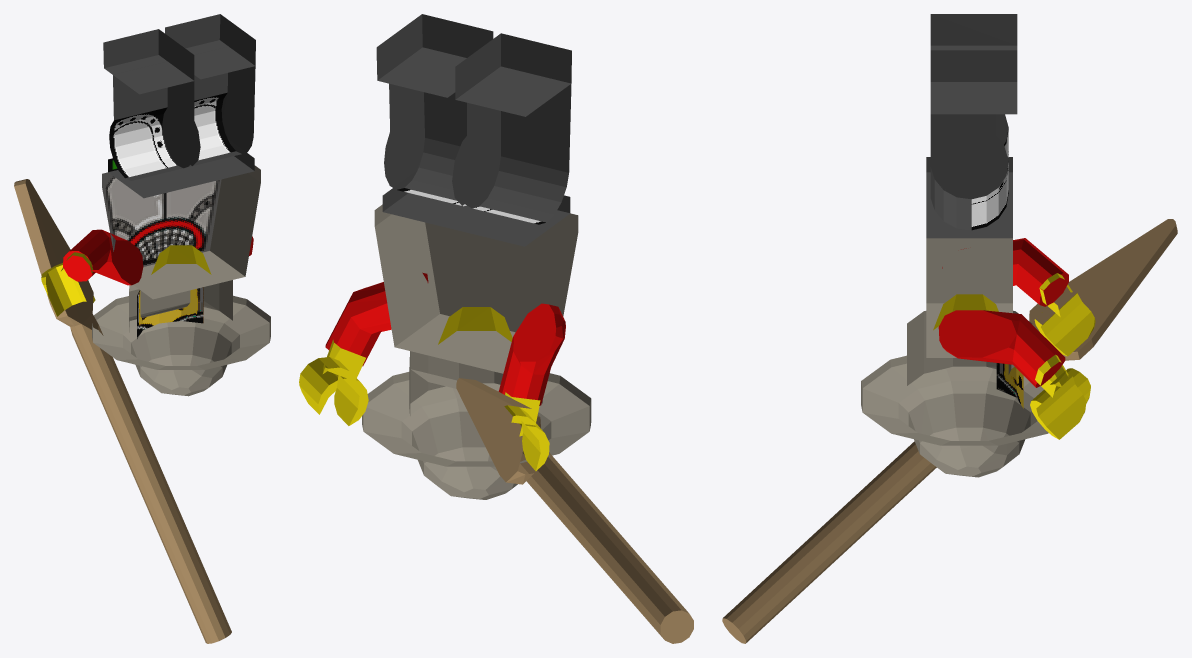
The model's file is minifigrichardstrong02.glb.
3 views of the same model, side by side, from view 1: azimuth 30°, elevation 25°; view 2: azimuth 150°, elevation 25°; view 3: azimuth 270°, elevation 25° (orthographic). The views are drawn at different scales.
Parts seen in each view (by area): view 1: 025_shape12, 032_shape16, 022_shape10, 019_shape8, 015_shape5, 021_shape9, 017_shape7, 028_shape14, 012_shape3, 034_shape18; view 2: 022_shape10, 025_shape12, 032_shape16, 019_shape8, 015_shape5, 021_shape9, 017_shape7, 012_shape3, 028_shape14, 040_shape18, 037_shape20, 034_shape18; view 3: 025_shape12, 032_shape16, 015_shape5, 022_shape10, 017_shape7, 037_shape20, 021_shape9, 040_shape18, 034_shape18, 028_shape14, 012_shape3.
Part boxes in pixels (bbox=[...]): 025_shape12: bbox=[92, 245, 270, 396]; 032_shape16: bbox=[14, 179, 231, 643]; 022_shape10: bbox=[102, 165, 260, 299]; 019_shape8: bbox=[109, 75, 194, 180]; 015_shape5: bbox=[189, 66, 255, 166]; 021_shape9: bbox=[103, 29, 194, 94]; 017_shape7: bbox=[165, 14, 255, 79]; 028_shape14: bbox=[63, 229, 143, 285]; 012_shape3: bbox=[108, 121, 254, 198]; 034_shape18: bbox=[41, 252, 95, 316]; 022_shape10: bbox=[374, 204, 578, 373]; 025_shape12: bbox=[362, 307, 591, 499]; 032_shape16: bbox=[456, 378, 693, 643]; 019_shape8: bbox=[460, 68, 571, 224]; 015_shape5: bbox=[384, 50, 466, 206]; 021_shape9: bbox=[455, 33, 571, 116]; 017_shape7: bbox=[376, 14, 493, 97]; 012_shape3: bbox=[382, 136, 570, 246]; 028_shape14: bbox=[498, 303, 565, 405]; 040_shape18: bbox=[299, 339, 368, 425]; 037_shape20: bbox=[325, 272, 428, 366]; 034_shape18: bbox=[504, 392, 549, 471]; 025_shape12: bbox=[861, 294, 1048, 477]; 032_shape16: bbox=[722, 219, 1177, 643]; 015_shape5: bbox=[930, 81, 1008, 230]; 022_shape10: bbox=[926, 238, 1012, 357]; 017_shape7: bbox=[930, 50, 1017, 114]; 037_shape20: bbox=[938, 310, 1065, 387]; 021_shape9: bbox=[930, 14, 1017, 50]; 040_shape18: bbox=[1030, 354, 1090, 439]; 034_shape18: bbox=[1034, 273, 1095, 356]; 028_shape14: bbox=[942, 238, 1068, 306]; 012_shape3: bbox=[926, 136, 1012, 238].
Bounding box in the file's own units: 2.36 × 6.42 × 4.22.
Materials: 9 (4 with a texture image).
